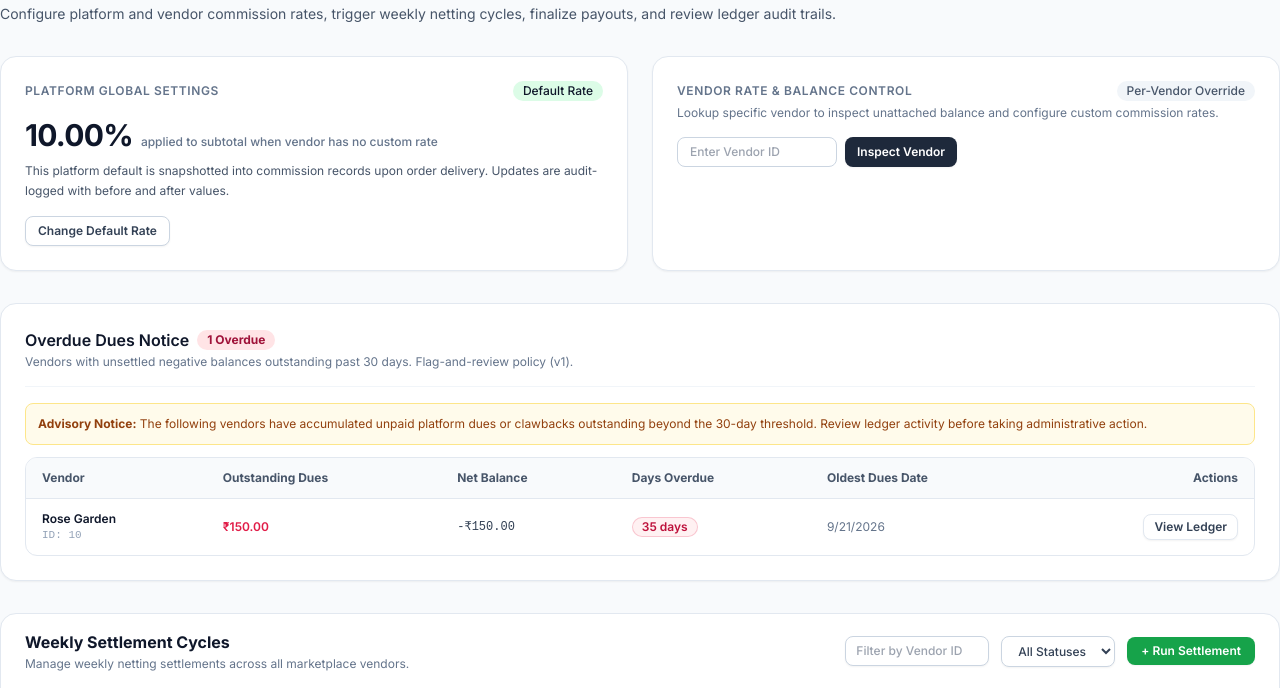
Test case: AdminBillingPage › renders overdue accounts notice and filters ledger when View Ledger clicked
Check: the element with test id "overdue-vendors-card" is shown, box top-left (0, 303), bottom-right (1279, 581)
Check: the text "Rose Garden" is shown, box top-left (42, 511), bottom-right (116, 526)
Click the button "View Ledger" at {"x": 1191, "y": 527}, box top-left (1143, 514), bottom-right (1238, 540)
(page scrolled)
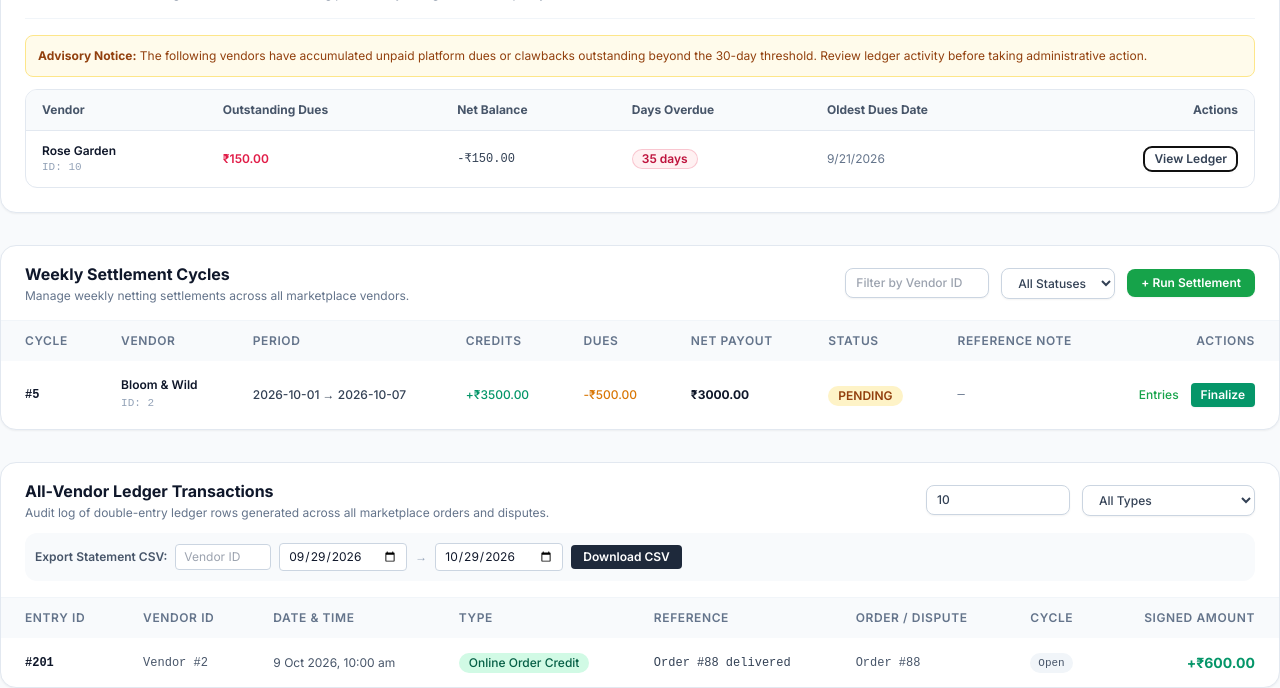
Check: the 2nd number field holds "10", box top-left (926, 485), bottom-right (1070, 515)
